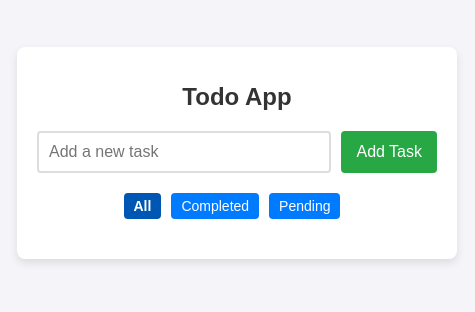
Test: Todo App with localStorage and TaskList › edits a task
Type "Test Task" into the field with placeholder "Add a new task" at (184, 152), box [37, 131, 332, 173]
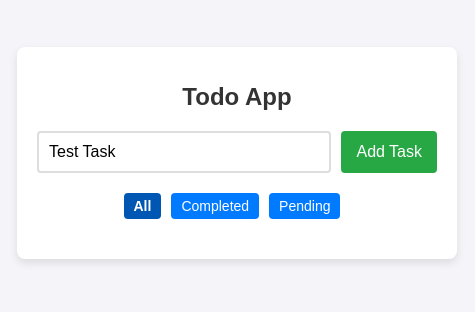
Click the button "Add Task" at (389, 152), box [342, 131, 437, 173]
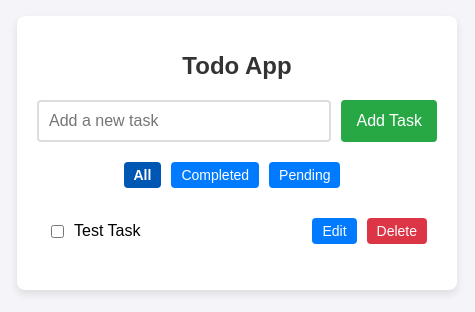
Click the button "Edit" at (334, 231), box [312, 218, 356, 244]
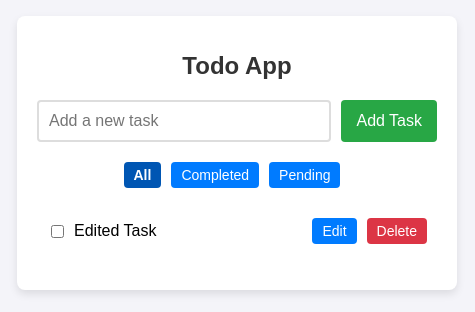
Check: the text "Edited Task" is shown, box [74, 222, 156, 239]
